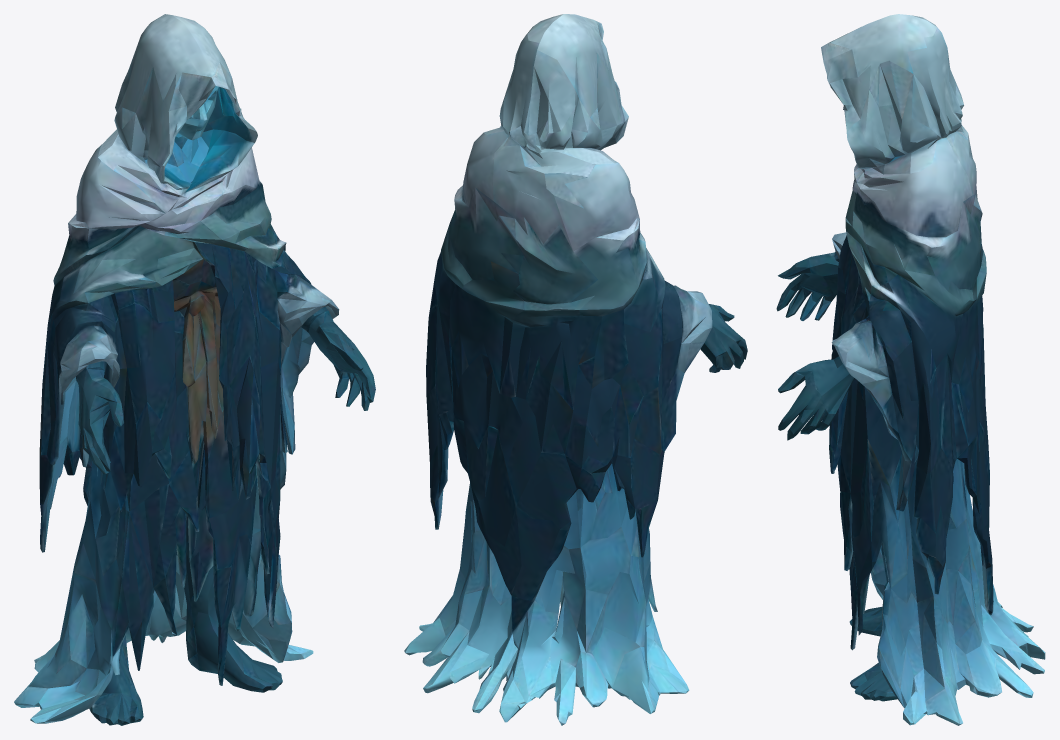
Rendered from wraith.glb.
3 renders of one model, left to right at view 1: azimuth 30°, elevation 25°; view 2: azimuth 150°, elevation 25°; view 3: azimuth 270°, elevation 25°, orthographic. The views are drawn at different scales.
Bounding box in the file's own units: 0.8203 × 1.9 × 0.7079.
Materials: 1 (1 with a texture image).
